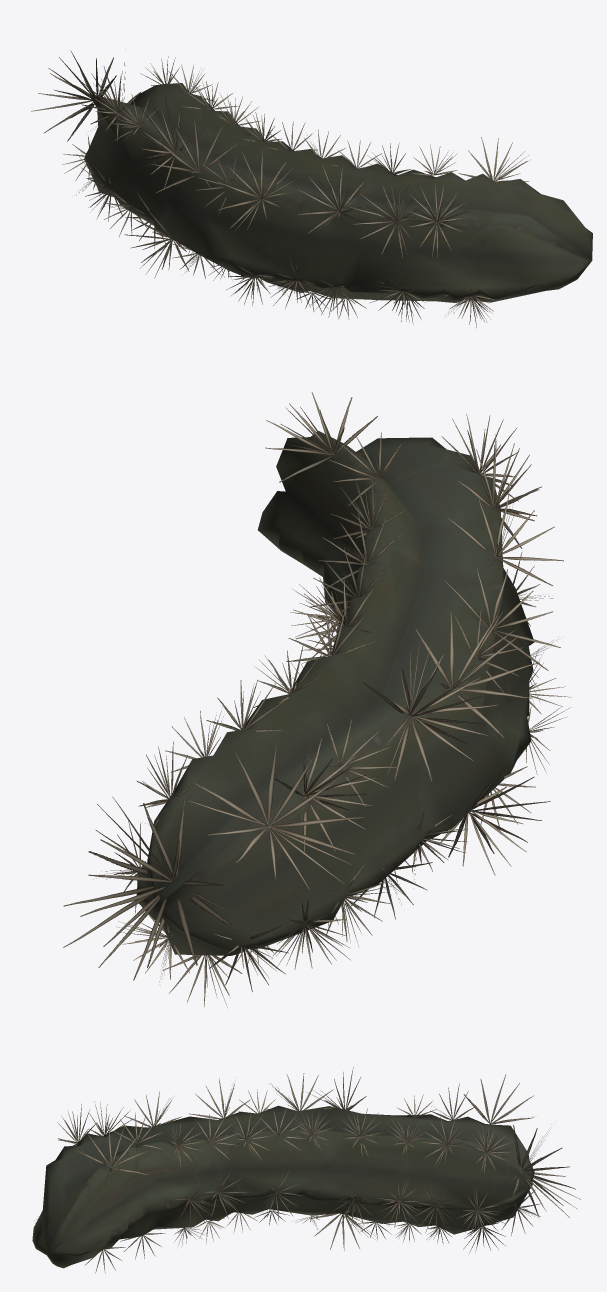
The model's file is DE_Cactus_Part_02.fbx.
3 renders of one model, top to bottom at view 1: azimuth 30°, elevation 25°; view 2: azimuth 150°, elevation 25°; view 3: azimuth 270°, elevation 25°, orthographic. The views are drawn at different scales.
Parts seen in each view (by area): view 1: DE_Cactus_Part_02, DE_Cactus_Needles_Part_02; view 2: DE_Cactus_Part_02, DE_Cactus_Needles_Part_02; view 3: DE_Cactus_Part_02, DE_Cactus_Needles_Part_02.
Boxes of the visible parts, box(x1,y1,x2,y2) form: DE_Cactus_Part_02: box(84, 83, 592, 302); DE_Cactus_Needles_Part_02: box(31, 49, 528, 327); DE_Cactus_Part_02: box(137, 431, 534, 955); DE_Cactus_Needles_Part_02: box(63, 392, 571, 1007); DE_Cactus_Part_02: box(32, 1105, 534, 1268); DE_Cactus_Needles_Part_02: box(34, 1067, 580, 1273).
Size of the model in its own units: 0.8839 by 0.5842 by 1.59.
